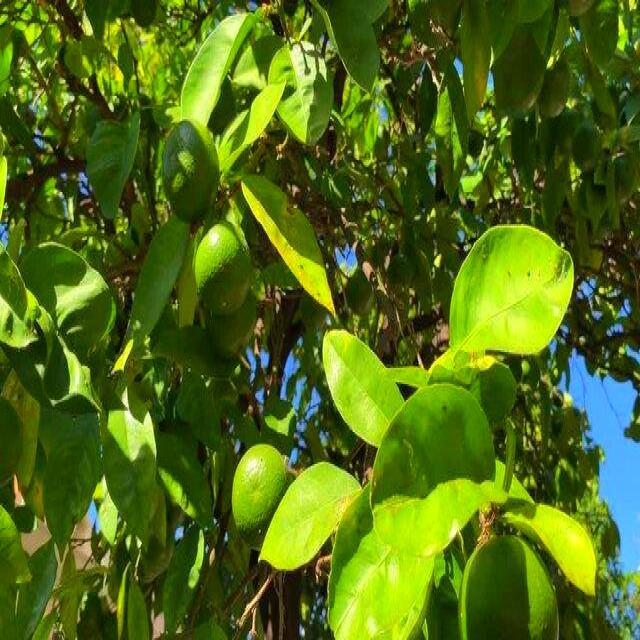Jeruk Belum Matang: (459, 535, 562, 640), (161, 119, 222, 222), (233, 444, 290, 546), (194, 222, 251, 315), (492, 36, 543, 112), (205, 294, 257, 356), (538, 61, 570, 118), (574, 126, 601, 171)
